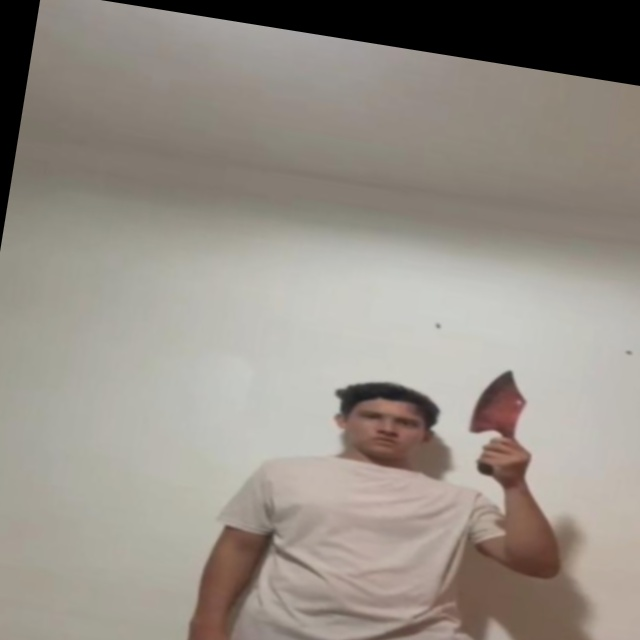Sharp-Object: (466, 368, 533, 436)
